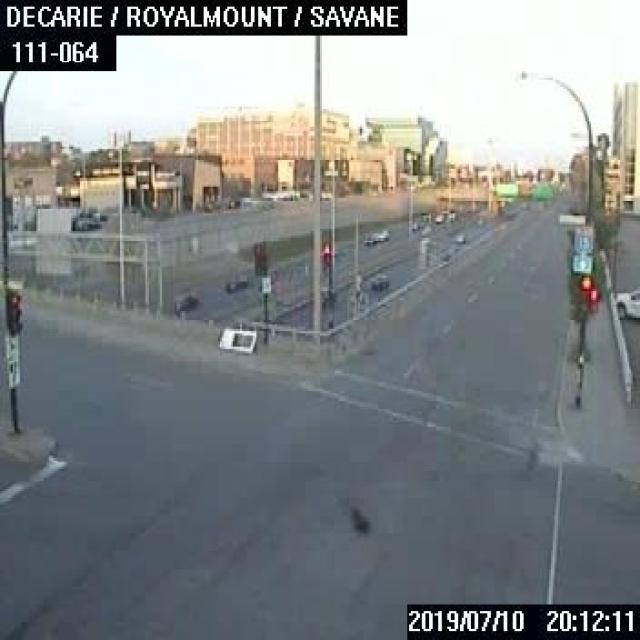vehicle: (171, 291, 204, 318), (222, 274, 247, 294), (368, 270, 390, 292), (373, 228, 388, 238), (362, 233, 375, 244)
